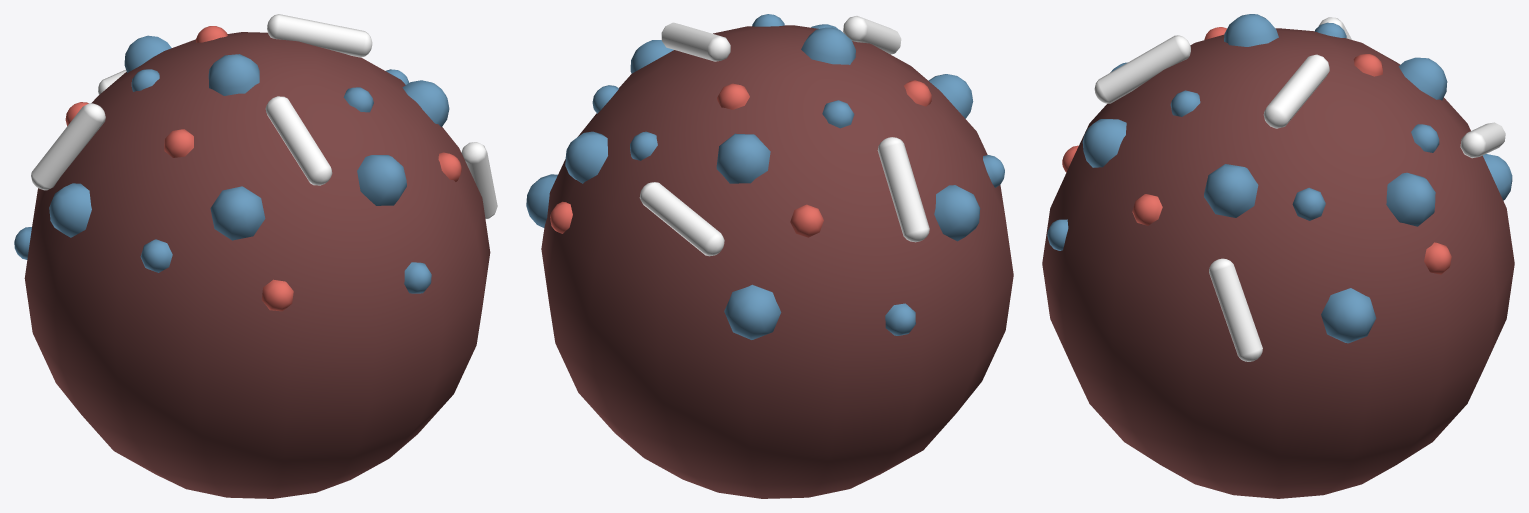
File: SM_cakepop1.fbx
3 renders of one model, left to right at view 1: azimuth 30°, elevation 25°; view 2: azimuth 150°, elevation 25°; view 3: azimuth 270°, elevation 25°, orthographic.
Parts seen in each view (by area): view 1: SM_cakepop1; view 2: SM_cakepop1; view 3: SM_cakepop1.
Boxes of the visible parts, x1=… form: SM_cakepop1: x1=14, y1=14, x2=497, y2=498; SM_cakepop1: x1=526, y1=14, x2=1013, y2=498; SM_cakepop1: x1=1042, y1=14, x2=1514, y2=498.
Bounding box in the file's own units: 175 × 173 × 167.
